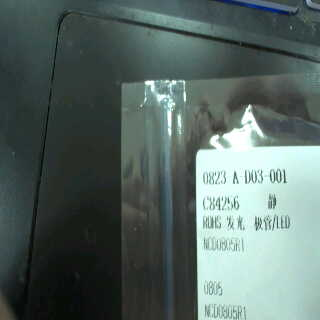LED: (224, 213, 297, 233)
